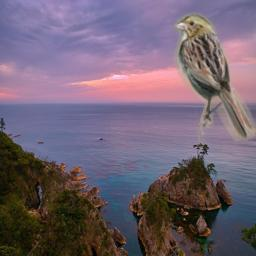Sparrow: (173, 12, 256, 142)
